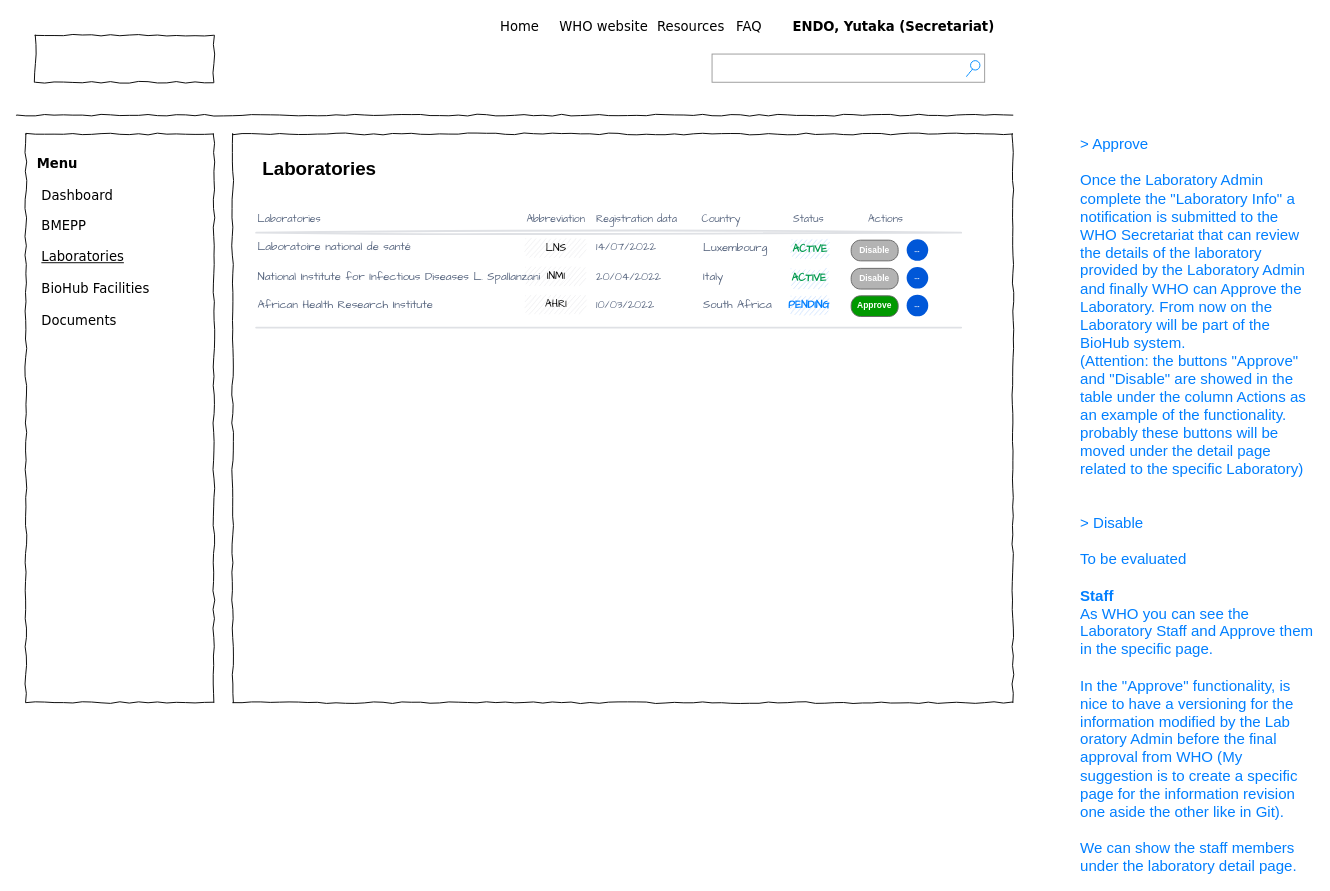
This 1330x891 diagram has some shape labels left out. Here are the shapes that lost their labels. From the top down, the box of each, then its label:
(34, 34, 214, 82): LOGO
(711, 53, 985, 82): Search
